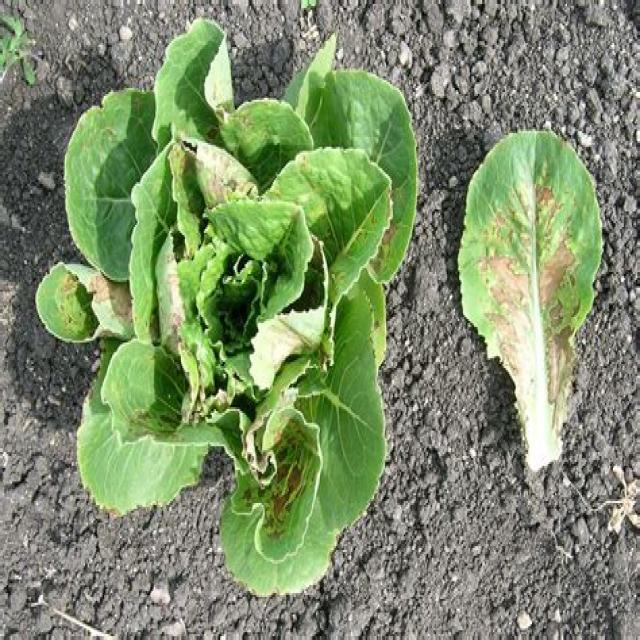Lettuce: (37, 17, 416, 594), (451, 124, 610, 480)
